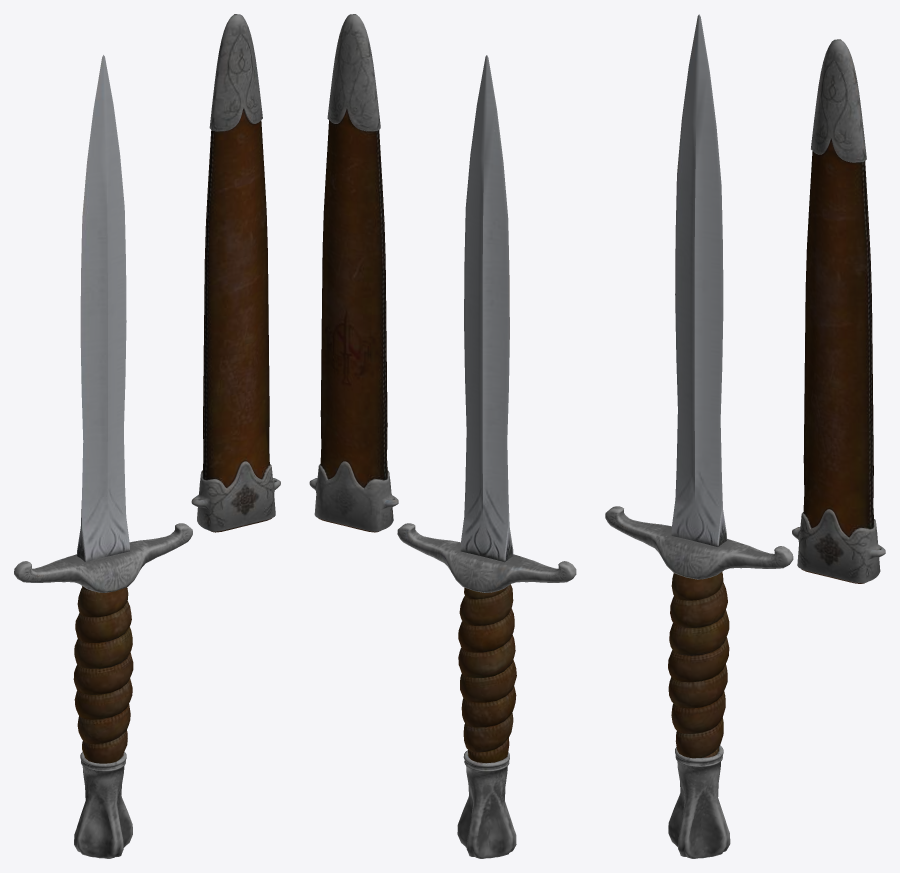
The picture shows the model from 3 angles, left to right: view 1: azimuth 30°, elevation 25°; view 2: azimuth 150°, elevation 25°; view 3: azimuth 330°, elevation 25°; orthographic projection. The views are drawn at different scales.
Visible parts, largest first — view 1: ornate_medieval_dagger, ornate_medieval_dagger_scabbard; view 2: ornate_medieval_dagger, ornate_medieval_dagger_scabbard; view 3: ornate_medieval_dagger, ornate_medieval_dagger_scabbard.
Part boxes in pixels (x1=…): ornate_medieval_dagger: x1=14, y1=55, x2=192, y2=858; ornate_medieval_dagger_scabbard: x1=191, y1=14, x2=280, y2=532; ornate_medieval_dagger: x1=397, y1=55, x2=576, y2=858; ornate_medieval_dagger_scabbard: x1=309, y1=14, x2=398, y2=532; ornate_medieval_dagger: x1=605, y1=14, x2=793, y2=858; ornate_medieval_dagger_scabbard: x1=792, y1=39, x2=885, y2=583.
Bounding box in the file's own units: 0.1201 × 0.3489 × 0.025.
Materials: 1 (1 with a texture image).
